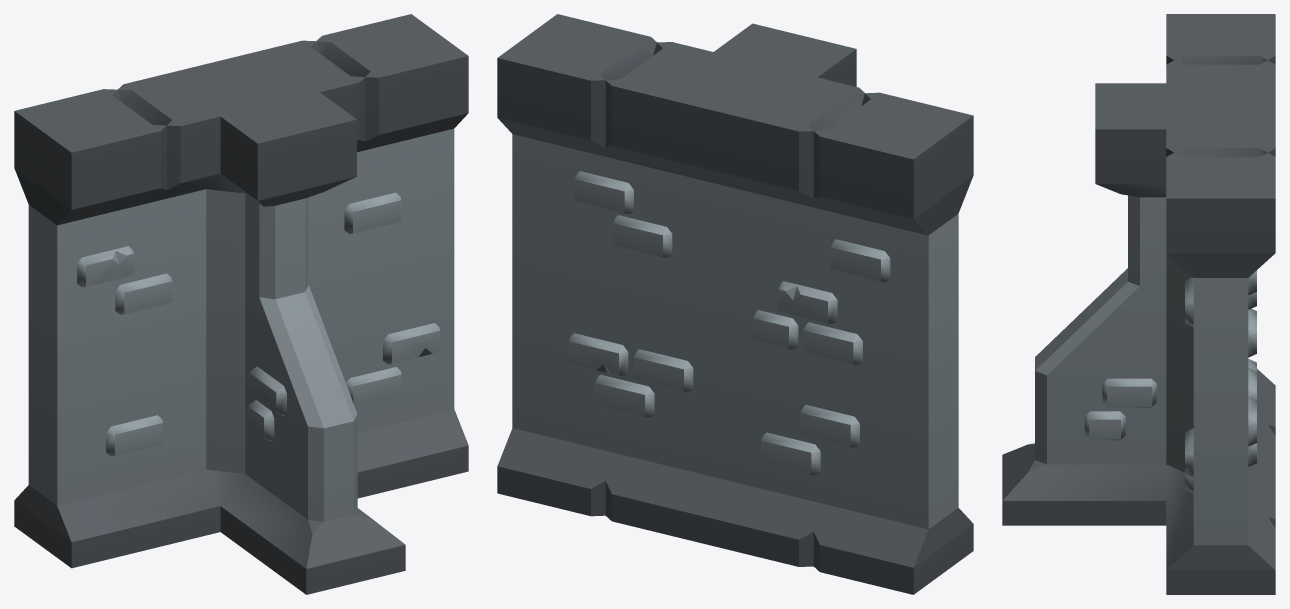
File: wall_tsplit_sloped.glb
3 views of the same model, side by side, from view 1: azimuth 30°, elevation 25°; view 2: azimuth 150°, elevation 25°; view 3: azimuth 270°, elevation 25° (orthographic). The views are drawn at different scales.
Parts seen in each view (by area): view 1: wall_Tsplit_sloped; view 2: wall_Tsplit_sloped; view 3: wall_Tsplit_sloped.
Boxes of the visible parts, bbox=[...] form: wall_Tsplit_sloped: bbox=[14, 14, 468, 594]; wall_Tsplit_sloped: bbox=[497, 14, 973, 594]; wall_Tsplit_sloped: bbox=[1002, 14, 1275, 594].
Size of the model in its own units: 4 by 4 by 2.5.
1 material, 1 textured.
